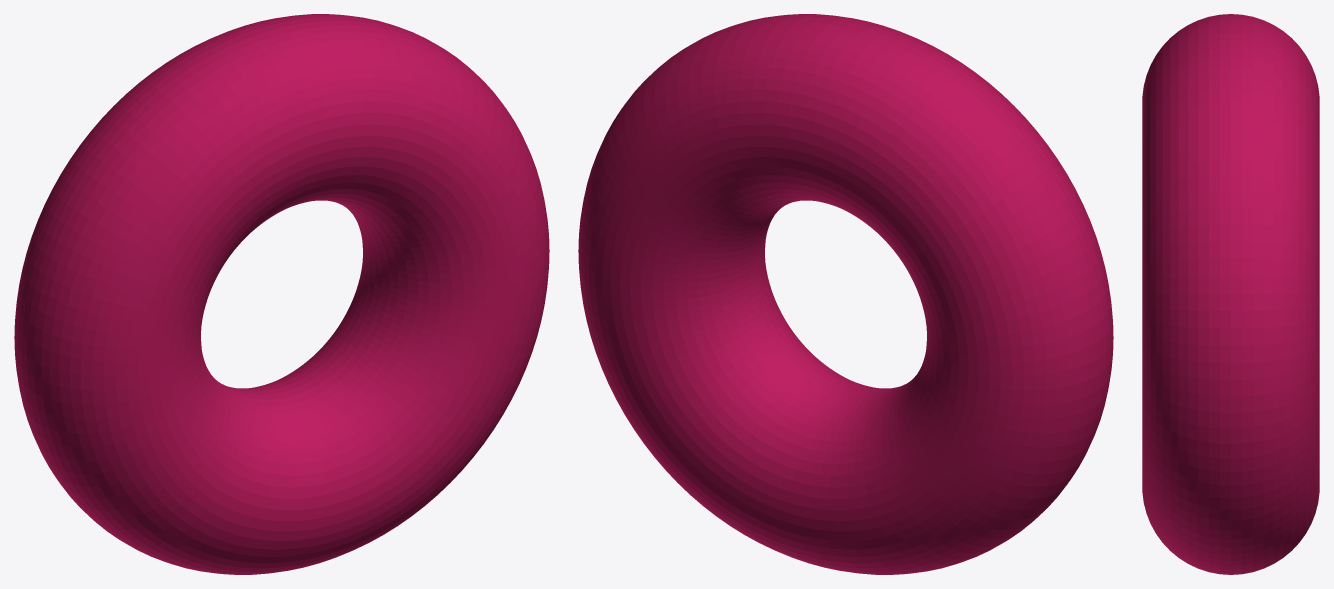
3 views of the same model, side by side, from view 1: azimuth 30°, elevation 25°; view 2: azimuth 150°, elevation 25°; view 3: azimuth 270°, elevation 25° (orthographic). The views are drawn at different scales.
Parts seen in each view (by area): view 1: world; view 2: world; view 3: world.
Boxes of the visible parts, x1,y1,x2,y2 form: world: (14, 14, 549, 574); world: (578, 14, 1113, 574); world: (1142, 14, 1319, 574).
Size of the model in its own units: 21.47 by 21.47 by 6.79.
